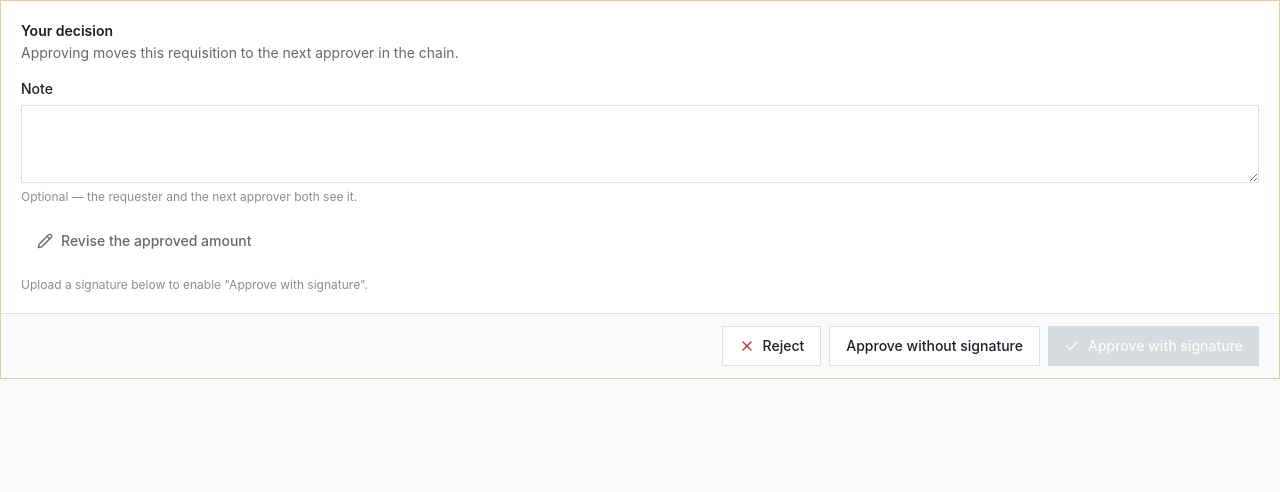
it: DecisionCard › hides the amount field until the approver asks for it
What coordinates should you click on to do the following:
click the button "Revise the approved amount"
I would click on:
 (144, 241)
Its box is [21, 221, 268, 261].
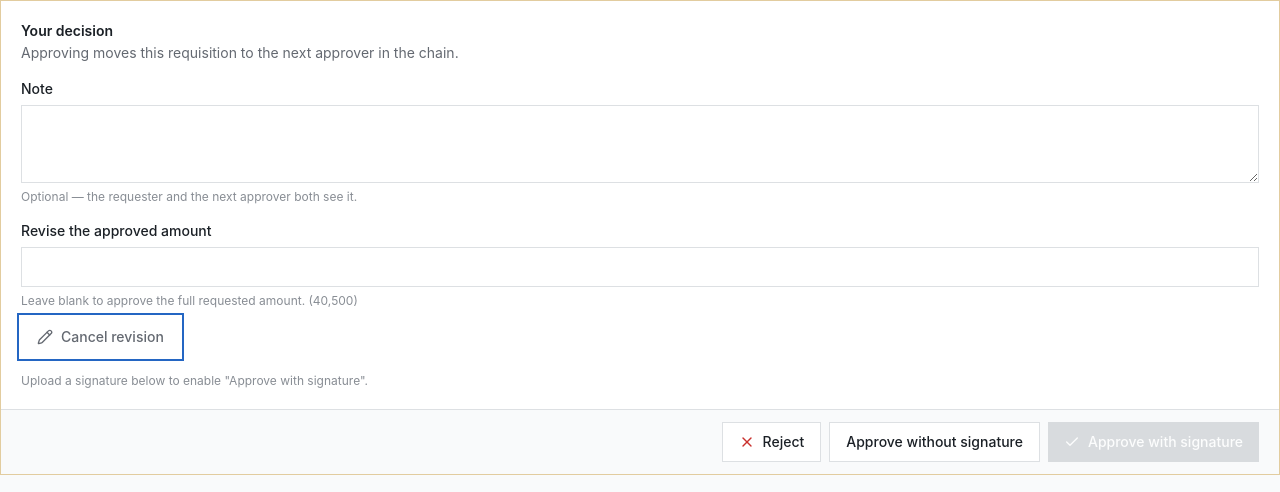
Check: the number field is shown, box [21, 247, 1259, 287]
